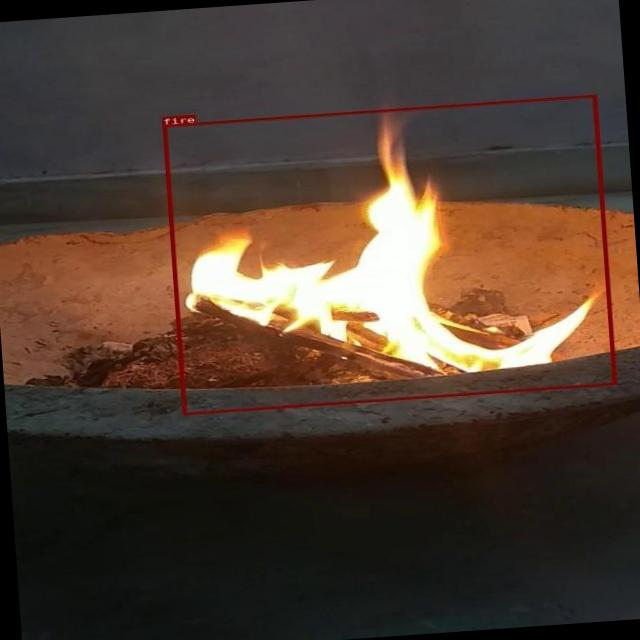fire: (161, 94, 615, 414)
